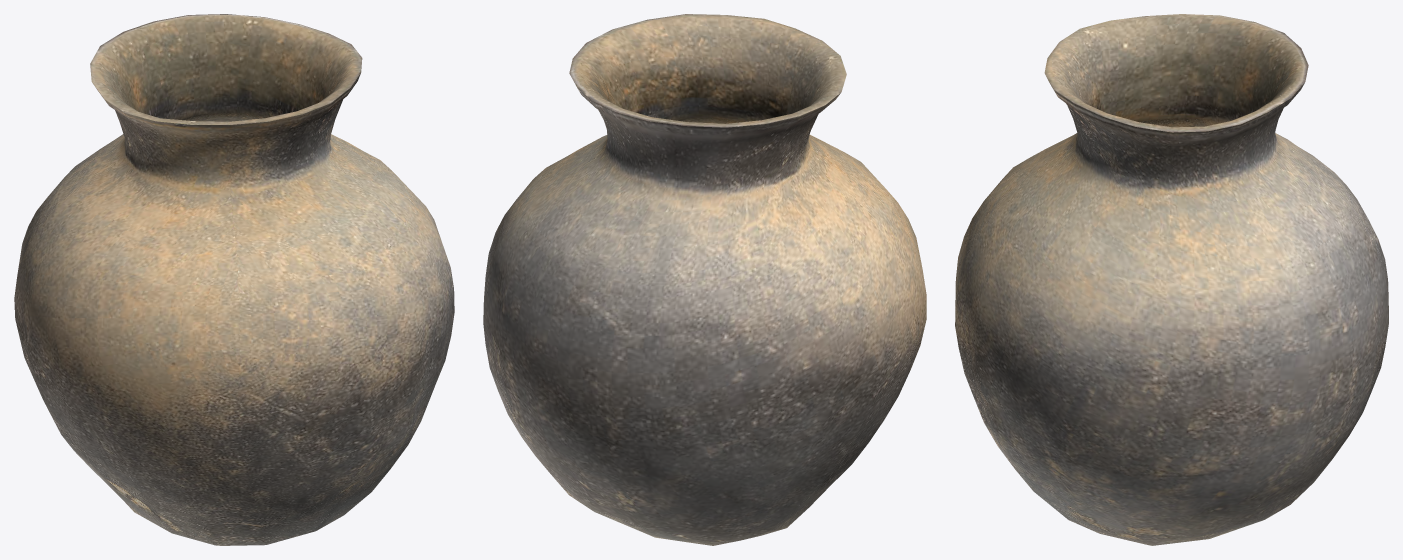
Rendered from antiquity0_0.fbx.
The picture shows the model from 3 angles, left to right: view 1: azimuth 30°, elevation 25°; view 2: azimuth 150°, elevation 25°; view 3: azimuth 270°, elevation 25°; orthographic projection.
Parts seen in each view (by area): view 1: 543; view 2: 543; view 3: 543.
Boxes of the visible parts, x1=… form: 543: x1=14, y1=14, x2=454, y2=545; 543: x1=483, y1=14, x2=926, y2=545; 543: x1=955, y1=14, x2=1388, y2=545.
Bounding box in the file's own units: 35.07 × 39.69 × 34.7.
Materials: 1 (1 with a texture image).
